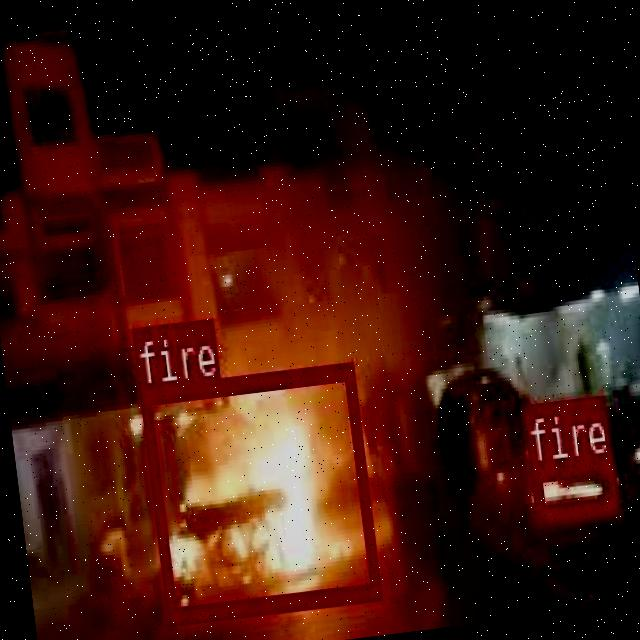fire: (137, 360, 378, 620), (527, 452, 616, 520)
